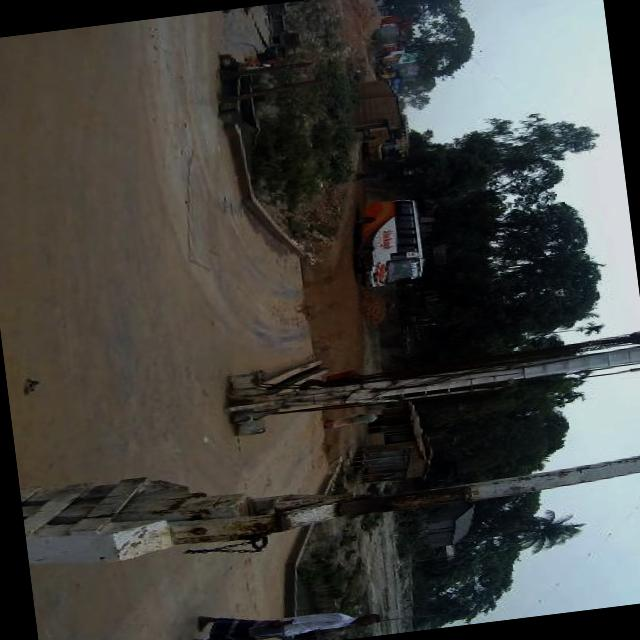bus: (348, 196, 428, 290), (361, 125, 411, 164)
truck: (378, 64, 404, 87)
